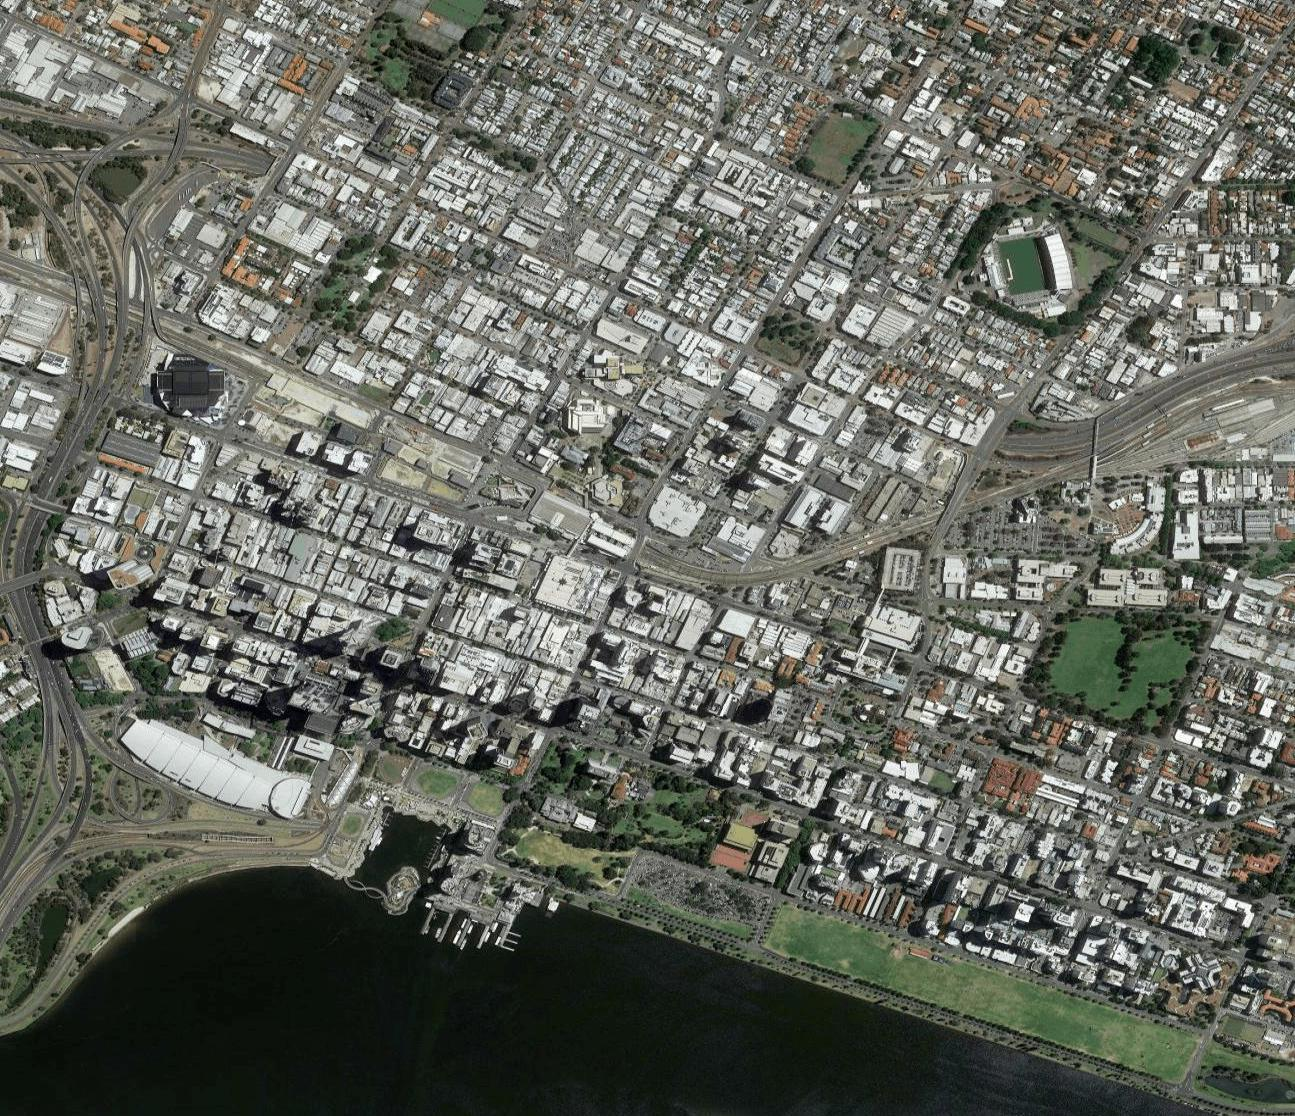bridge: (1085, 418, 1107, 479), (934, 497, 962, 537), (29, 492, 64, 516), (9, 568, 44, 590)
industrial: (11, 26, 134, 121)
motorway: (50, 194, 138, 342), (1, 115, 135, 196), (45, 342, 120, 487), (30, 651, 102, 781), (3, 508, 62, 667), (1, 783, 72, 913), (138, 98, 199, 201), (183, 1, 243, 97), (202, 133, 266, 188)
train_station: (578, 508, 672, 584)
